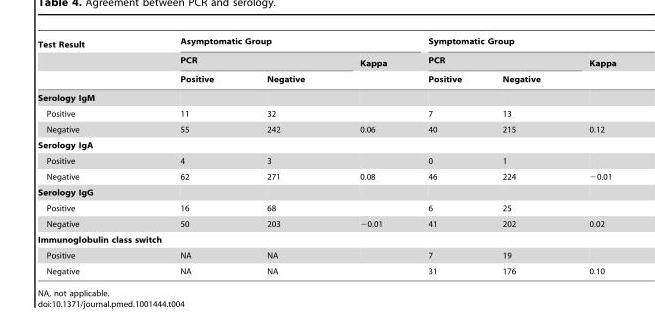table: (37, 36, 615, 275)
table column: (37, 36, 170, 275), (239, 36, 331, 275), (481, 36, 564, 275), (331, 36, 406, 275), (406, 36, 481, 275), (170, 36, 239, 275), (564, 36, 615, 275)
table column header: (37, 36, 615, 88)
table projected row header: (37, 88, 615, 105), (37, 184, 615, 200), (37, 231, 615, 247), (37, 137, 615, 152)
table row: (37, 52, 615, 71), (37, 71, 615, 88), (37, 88, 615, 105), (37, 36, 615, 52), (37, 105, 615, 121), (37, 121, 615, 137), (37, 152, 615, 168), (37, 168, 615, 184), (37, 184, 615, 200), (37, 215, 615, 231), (37, 231, 615, 247), (37, 247, 615, 263), (37, 137, 615, 152), (37, 200, 615, 215), (37, 263, 615, 275)
table spanning cell: (37, 36, 170, 88), (170, 36, 406, 52), (406, 36, 615, 52), (170, 52, 331, 71), (406, 52, 564, 71), (331, 52, 406, 88), (564, 52, 615, 88)
